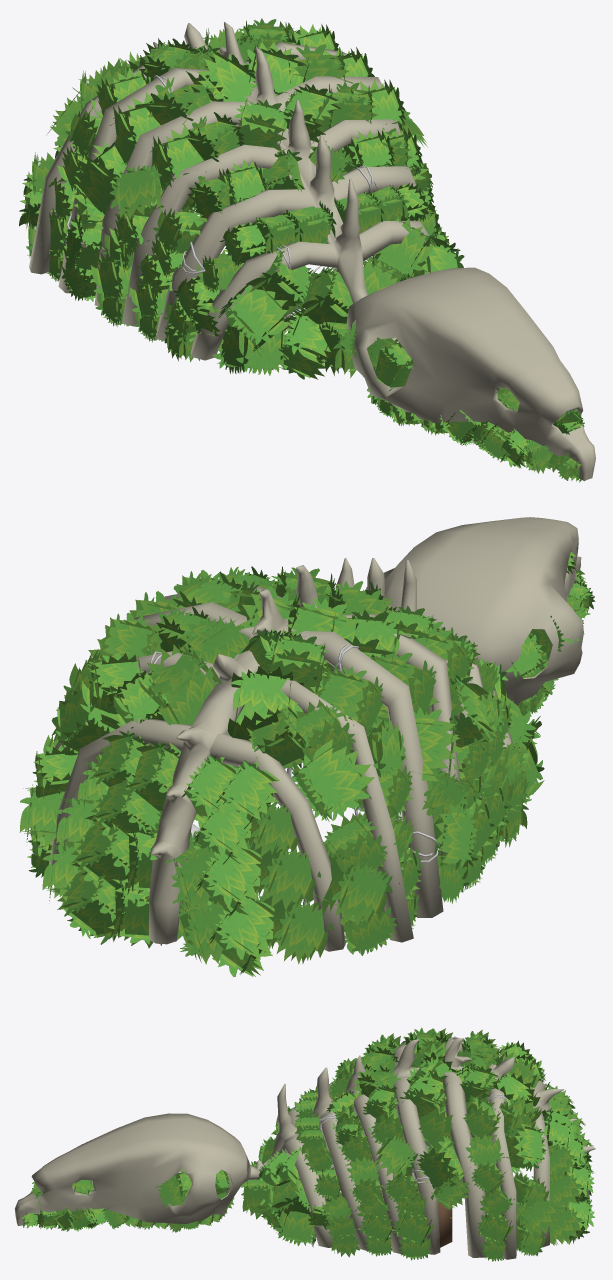
File: skullhouseP22.fbx
3 renders of one model, top to bottom at view 1: azimuth 30°, elevation 25°; view 2: azimuth 150°, elevation 25°; view 3: azimuth 270°, elevation 25°, orthographic. The views are drawn at different scales.
Parts seen in each view (by area): view 1: bodybush, rabbit skeleton, backbush.001, Front bushes; view 2: backbush.001, rabbit skeleton, bodybush, Front bushes; view 3: rabbit skeleton, bodybush, backbush.001, Front bushes.
Part boxes in pixels (<box>): bodybush: <box>61,41,464,379</box>; rabbit skeleton: <box>29,22,595,480</box>; backbush.001: <box>19,18,338,281</box>; Front bushes: <box>338,321,584,482</box>; backbush.001: <box>19,606,422,977</box>; rabbit skeleton: <box>32,517,583,951</box>; bodybush: <box>88,566,544,903</box>; Front bushes: <box>505,552,595,716</box>; rabbit skeleton: <box>14,1037,595,1259</box>; bodybush: <box>241,1027,470,1260</box>; backbush.001: <box>455,1029,594,1261</box>; Front bushes: <box>21,1168,234,1232</box>.
Size of the model in its own units: 503 by 376 by 1055.
